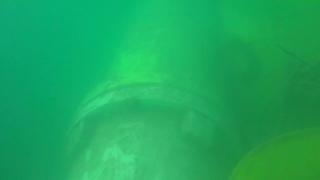pipe: (62, 1, 223, 179), (222, 1, 320, 75), (228, 126, 320, 180)
